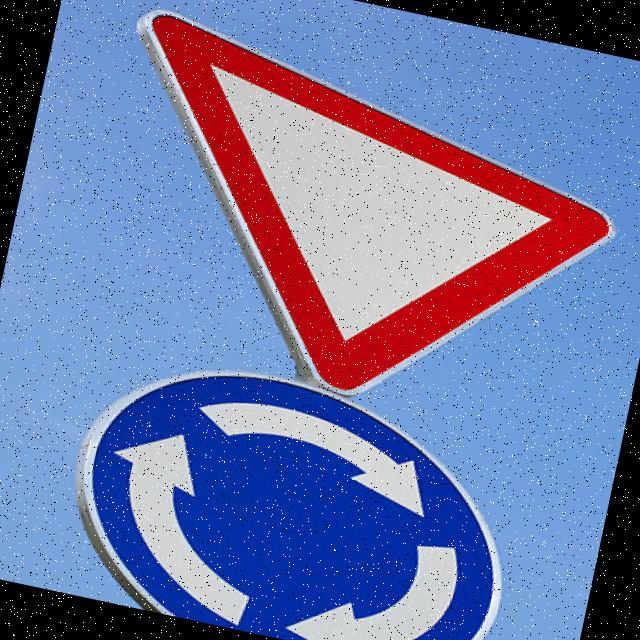round_about: (50, 337, 545, 640)
